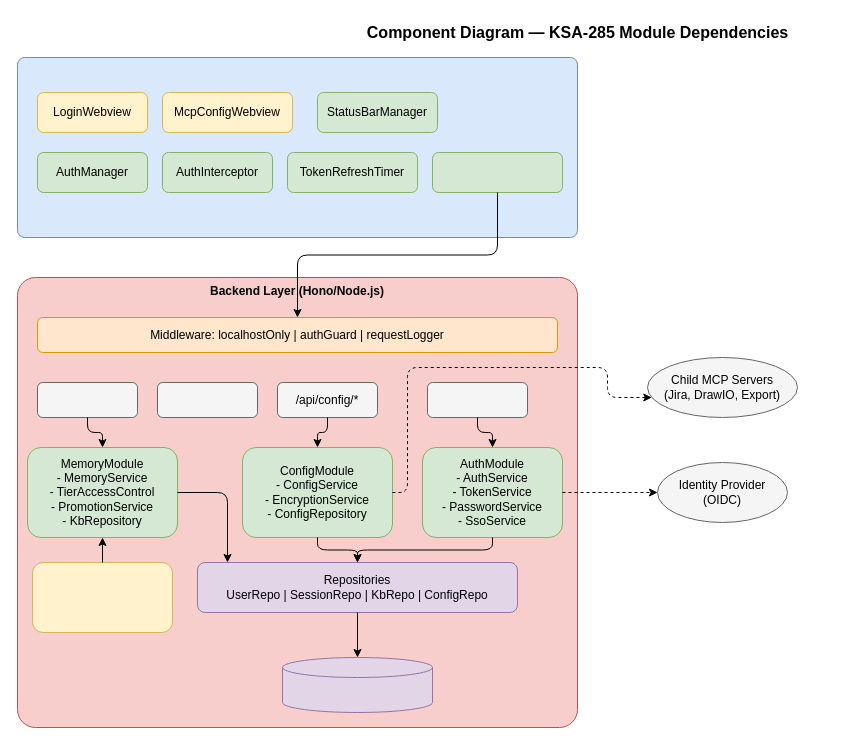
This 845x745 diagram has some shape labels left out. The shapes that lost their labels are listed below. From the top down, each one's box as (x1, y1, x2, y2) in pixels, then its label:
(16, 56, 578, 238): Extension Layer (VS Code)
(432, 152, 562, 192): ConnectionManager
(36, 382, 138, 418): /mcp/tools/*
(156, 382, 258, 418): /api/kb/*
(426, 382, 528, 418): /api/auth/*
(32, 562, 172, 632): SchedulerModule - PromotionJob - TtlCleanupJob
(282, 656, 432, 712): SQLite (better-sqlite3) WAL mode
